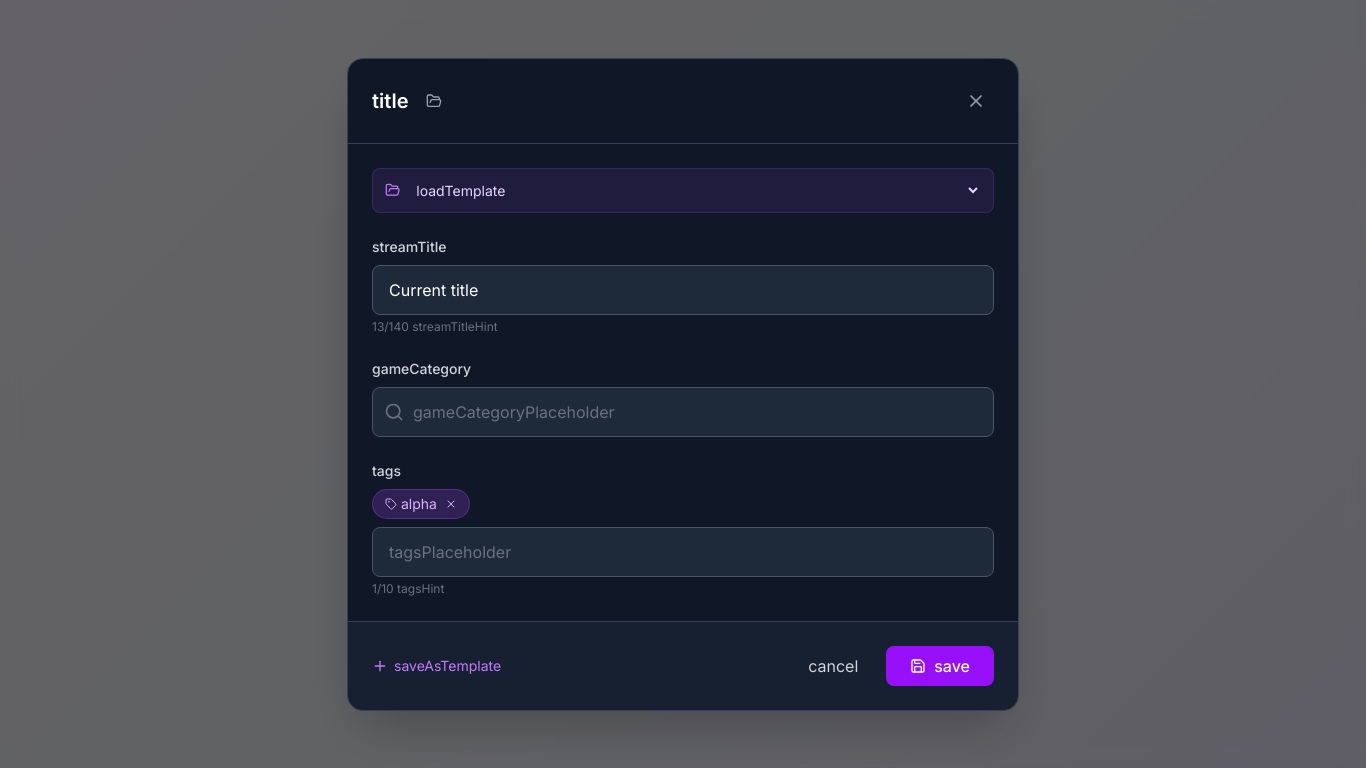
Test case: StreamSettingsEditor › falls back to an empty tag list when a template has no tags
Check: the field showing "Current title" is shown, box x1=372 y1=264 x2=994 y2=314
Select "No Tags" in the dropdown at (697, 190), box x1=412 y1=180 x2=981 y2=200
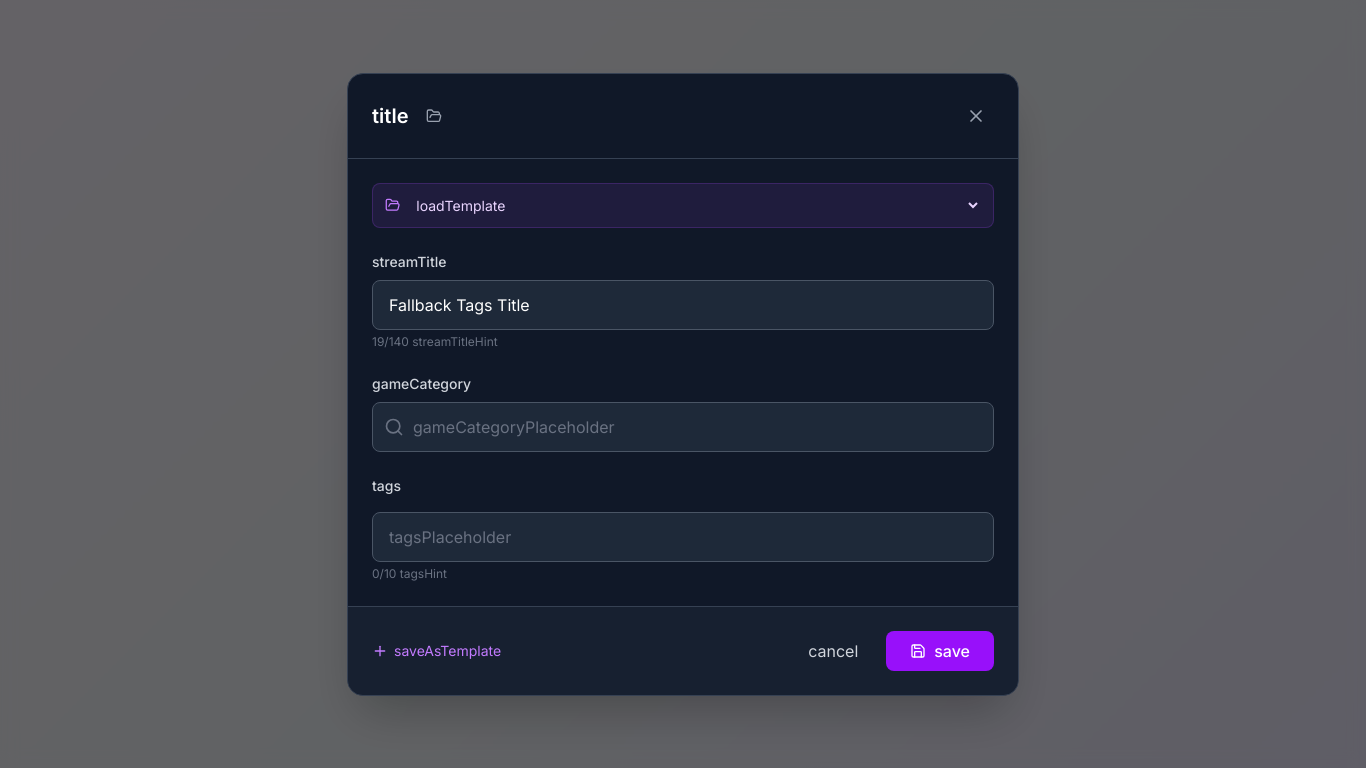
Check: the field showing "Fallback Tags Title" is shown, box x1=372 y1=280 x2=994 y2=330
Check: the text "0/10 tagsHint" is shown, box x1=372 y1=566 x2=447 y2=580
